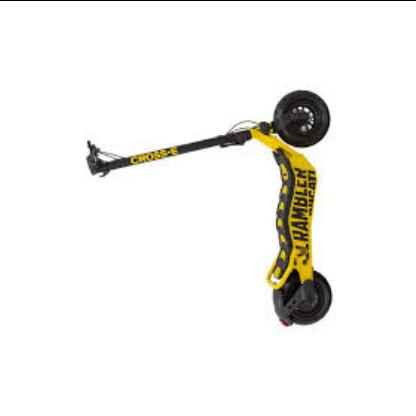bike: (84, 89, 335, 329)
